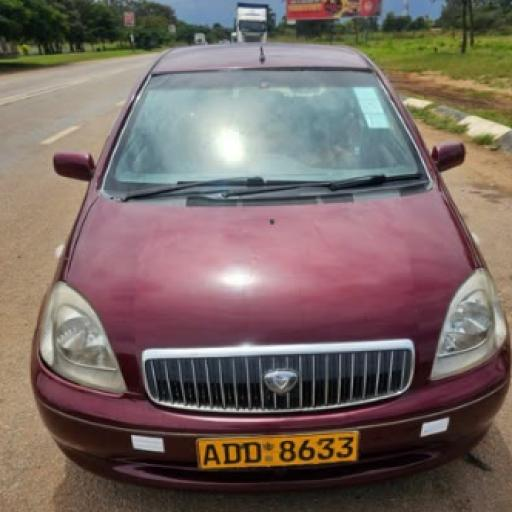number-plates: (200, 430, 356, 468)
